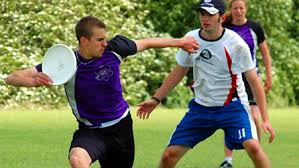disc: (42, 45, 77, 85)
